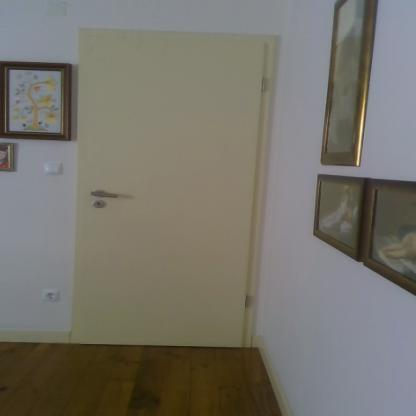door: (80, 33, 265, 350)
hinged: (244, 292, 251, 308), (260, 79, 267, 94)
lever: (92, 190, 118, 200)
